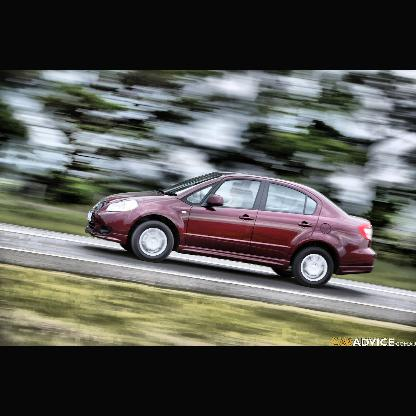Suzuki SX4 Sedan 2012: (83, 169, 381, 289)
